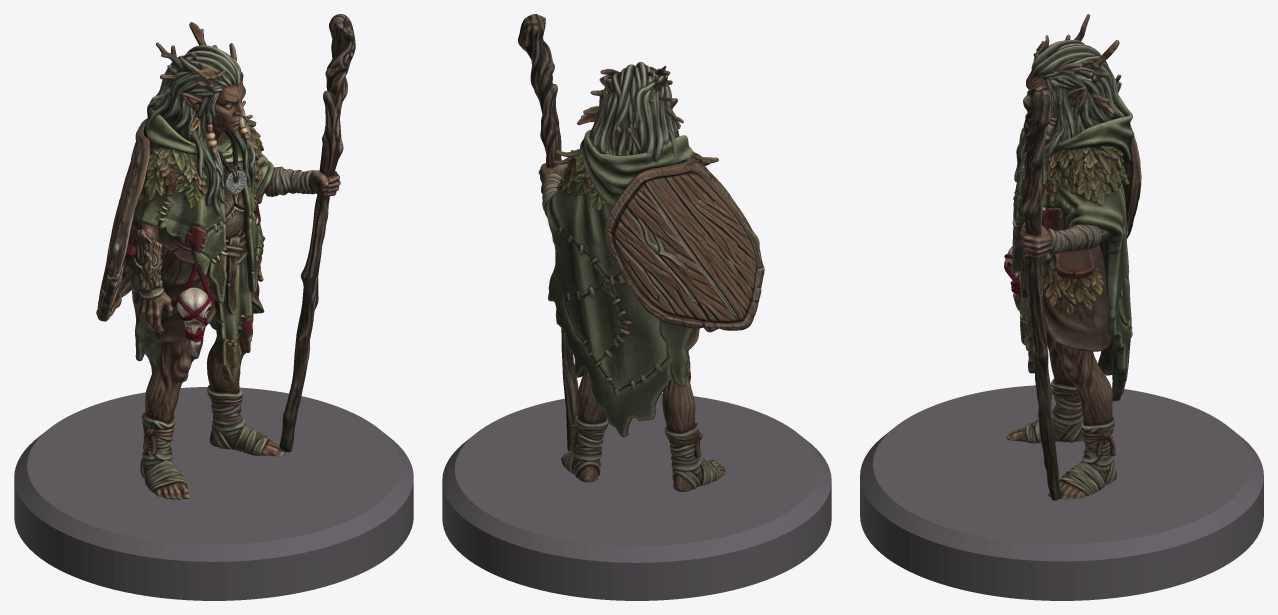
Rendered from varis.glb.
3 views of the same model, side by side, from view 1: azimuth 30°, elevation 25°; view 2: azimuth 150°, elevation 25°; view 3: azimuth 270°, elevation 25° (orthographic). The views are drawn at different scales.
Visible parts, largest first — view 1: base, figure; view 2: figure, base; view 3: base, figure.
Part boxes in pixels (x1,y1,x2,y2): base: [14, 387, 413, 600]; figure: [96, 14, 355, 499]; figure: [518, 14, 764, 491]; base: [442, 393, 831, 600]; base: [860, 385, 1263, 600]; figure: [1004, 14, 1141, 500].
Bounding box in the file's own units: 25 × 33.2 × 25.
1 material, 1 textured.
